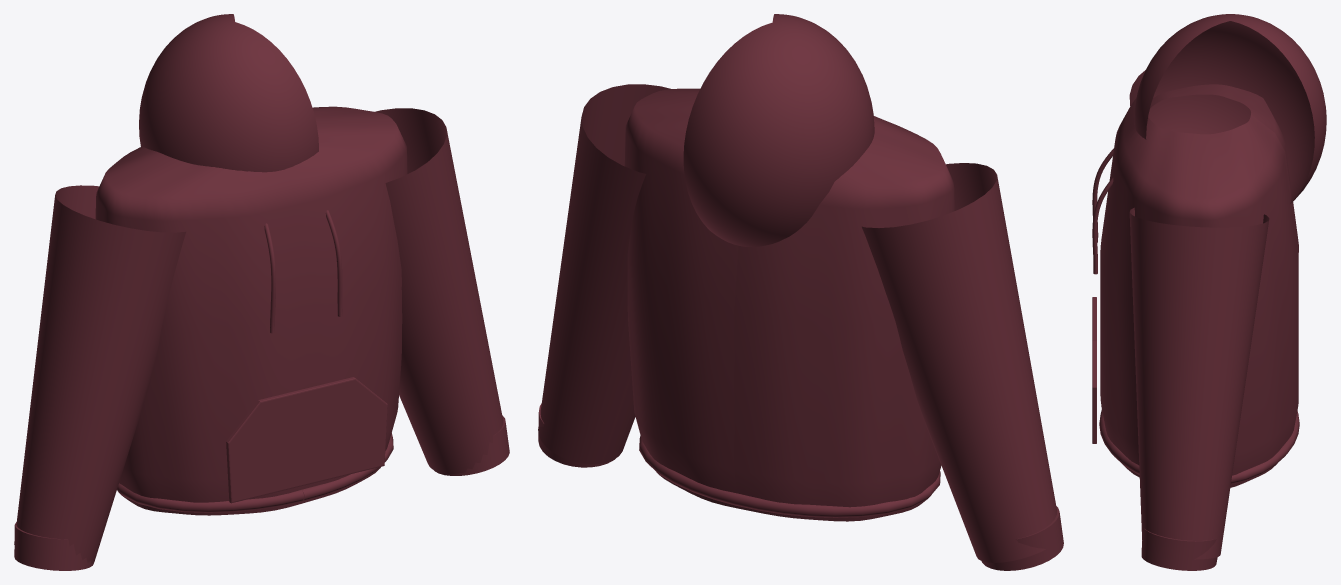
The model's file is hoodie-bordeaux-homme.glb.
3 renders of one model, left to right at view 1: azimuth 30°, elevation 25°; view 2: azimuth 150°, elevation 25°; view 3: azimuth 270°, elevation 25°, orthographic. The views are drawn at different scales.
Visible parts, largest first — view 1: hoodie-bordeaux, long-sleeve (×2); view 2: hoodie-bordeaux, long-sleeve (×2); view 3: hoodie-bordeaux, long-sleeve.
Part boxes in pixels (x1,y1,x2,y2): hoodie-bordeaux: (14,14,509,570); long-sleeve (×2): (14,108,503,563); hoodie-bordeaux: (538,14,1063,570); long-sleeve (×2): (538,84,1056,562); hoodie-bordeaux: (1092,14,1326,570); long-sleeve: (1129,207,1269,559).
Bounding box in the file's own units: 0.7702 × 0.7203 × 0.341.
